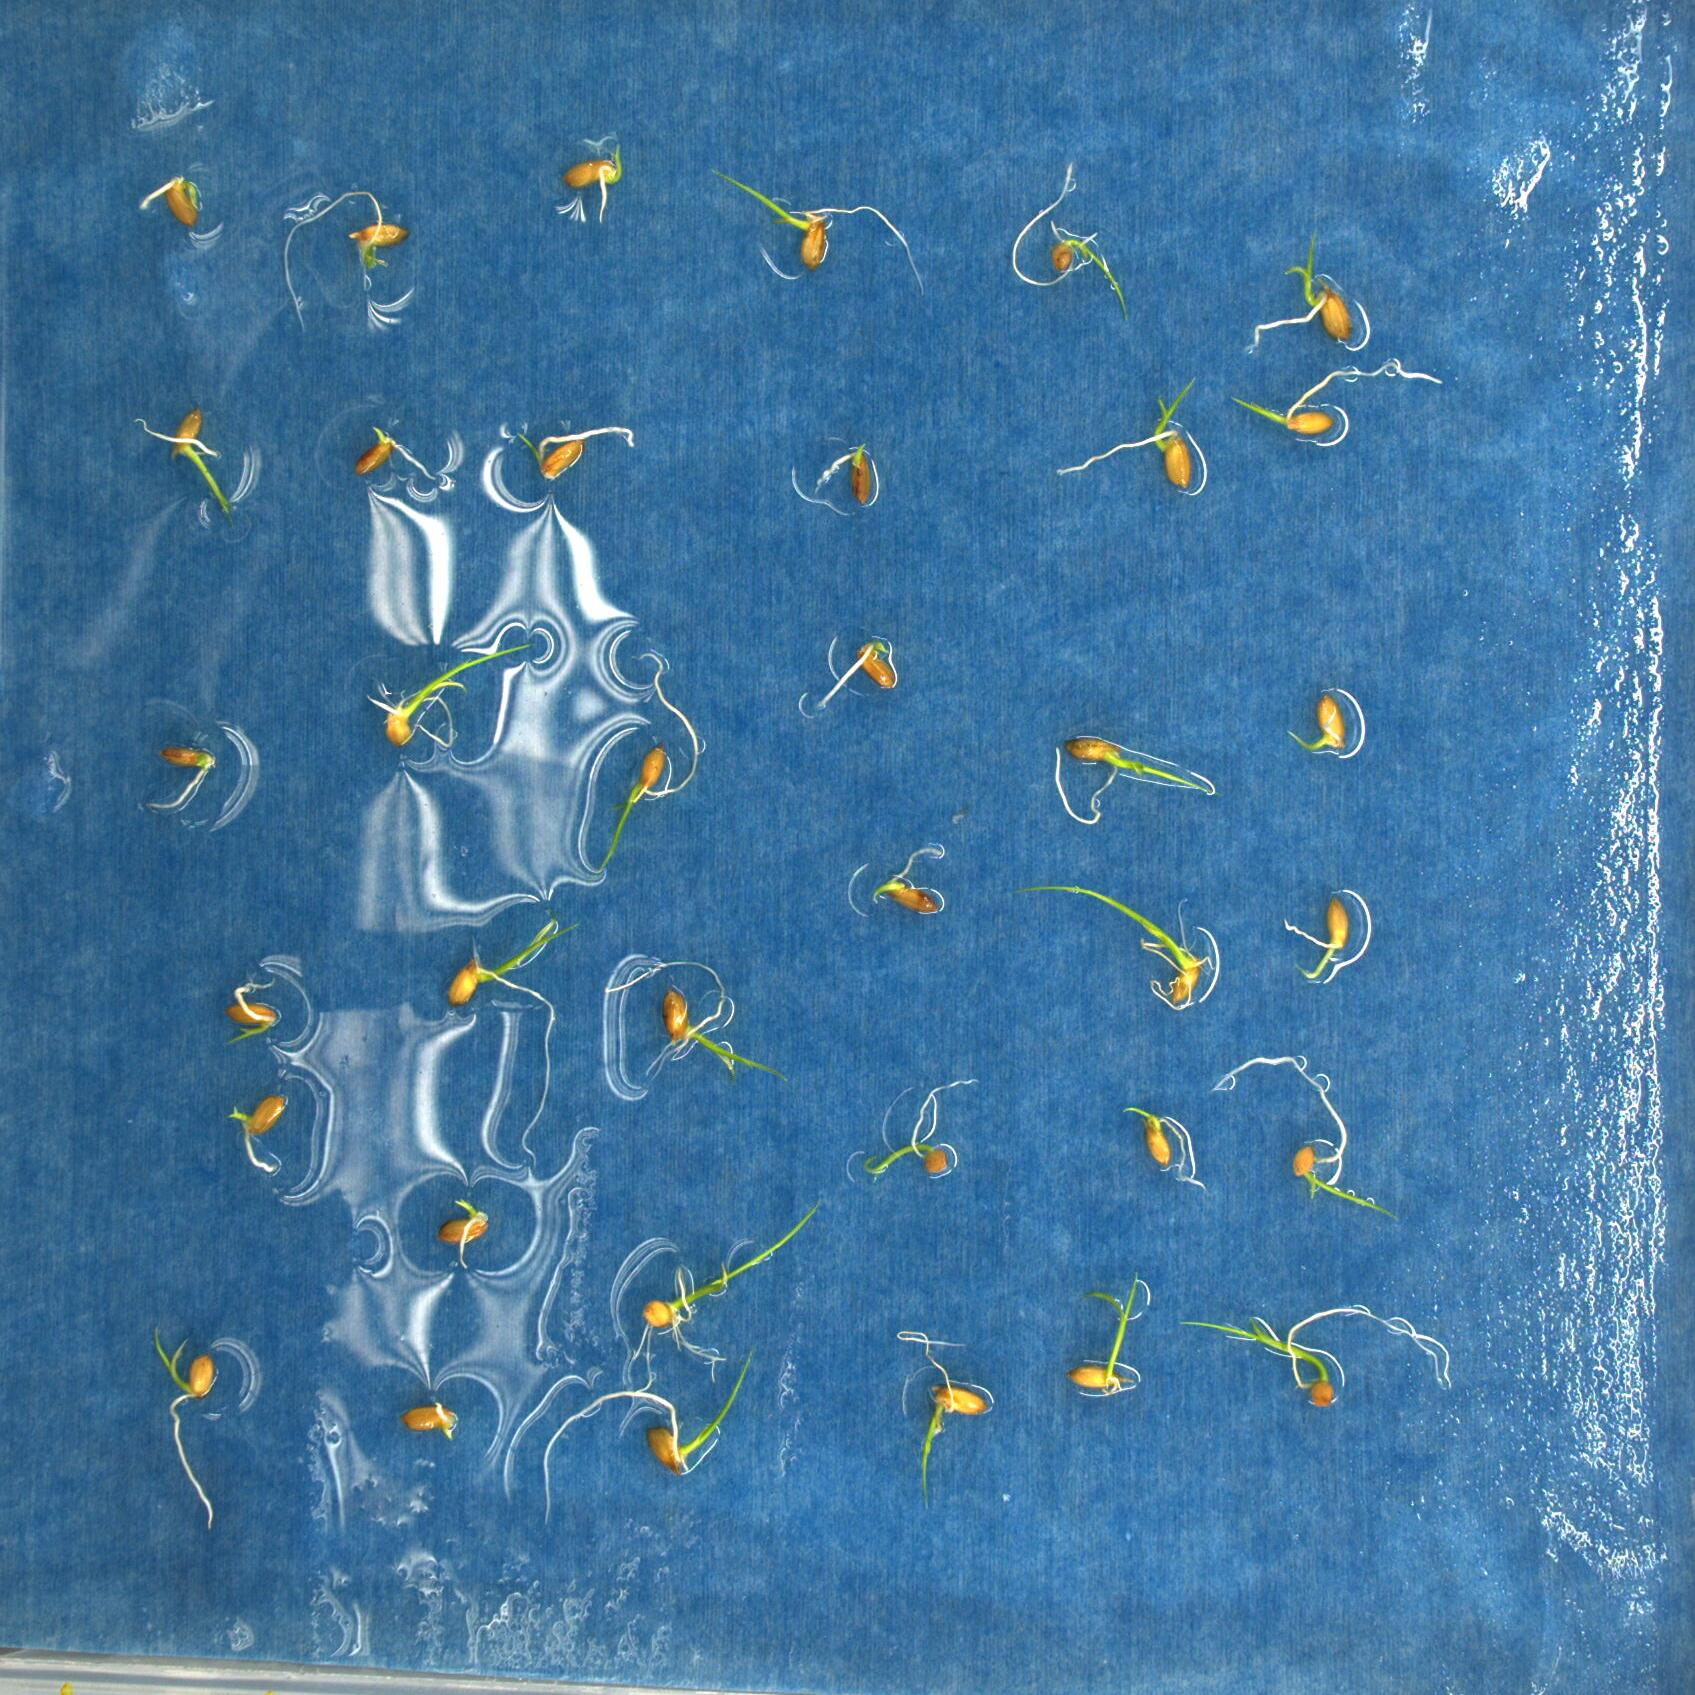not sprout: (810, 638, 922, 712), (865, 843, 959, 925), (349, 421, 435, 497), (230, 1094, 303, 1169), (815, 447, 896, 508), (400, 1388, 461, 1450)
sprout: (537, 1322, 768, 1558), (622, 1181, 847, 1395), (1028, 861, 1237, 1063), (697, 147, 930, 321), (1161, 1291, 1471, 1417), (1211, 1046, 1423, 1229), (442, 903, 588, 1166), (577, 650, 716, 899), (975, 169, 1178, 321), (602, 959, 815, 1104), (1215, 348, 1464, 461), (276, 171, 424, 343), (1040, 730, 1243, 841), (140, 1316, 244, 1530), (366, 636, 528, 771), (1051, 379, 1218, 503), (854, 1055, 990, 1206), (893, 1333, 1004, 1510), (1260, 224, 1363, 369), (1068, 1251, 1153, 1419), (141, 393, 237, 539), (1121, 1087, 1212, 1192), (498, 421, 643, 487), (1288, 893, 1366, 989), (553, 140, 647, 217), (140, 737, 234, 813), (214, 973, 293, 1062), (1284, 681, 1369, 761), (428, 1200, 500, 1263), (144, 169, 211, 231)
